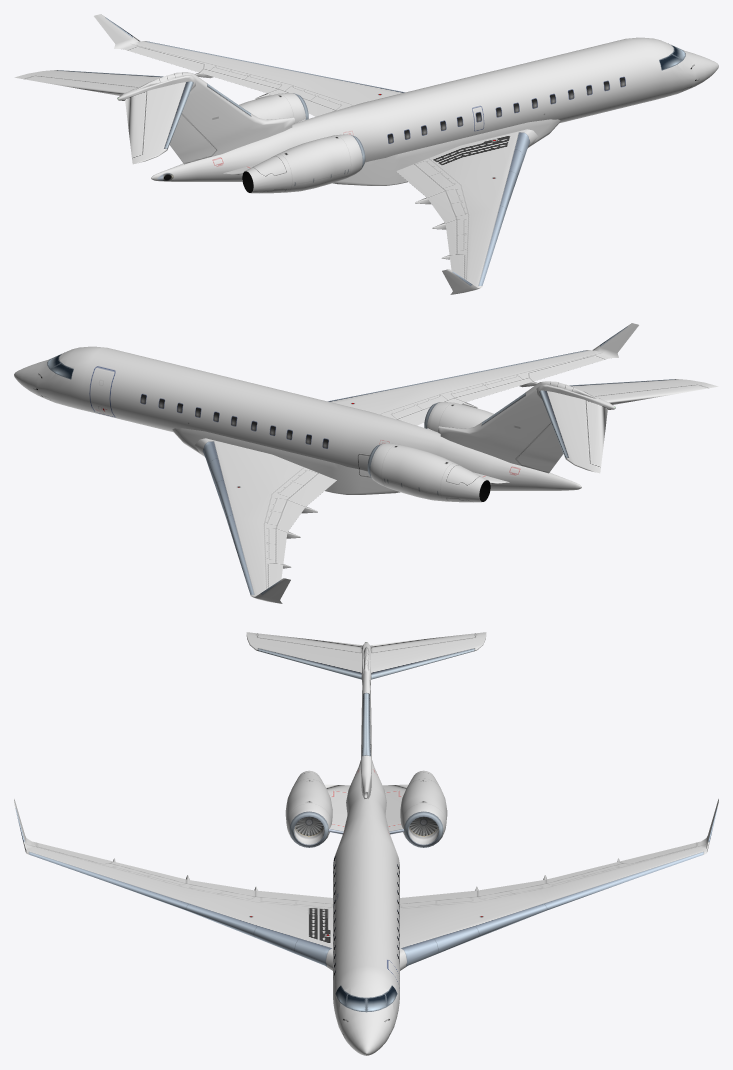
3 views of the same model, one above another, from view 1: azimuth 30°, elevation 25°; view 2: azimuth 150°, elevation 25°; view 3: azimuth 270°, elevation 25° (orthographic).
Parts seen in each view (by area): view 1: body; view 2: body; view 3: body.
Part boxes in pixels (x1=…): body: x1=14, y1=14, x2=718, y2=294; body: x1=14, y1=323, x2=718, y2=603; body: x1=14, y1=632, x2=718, y2=1055.
Bounding box in the file's own units: 30.17 × 6.77 × 28.24.
1 material, 1 textured.
